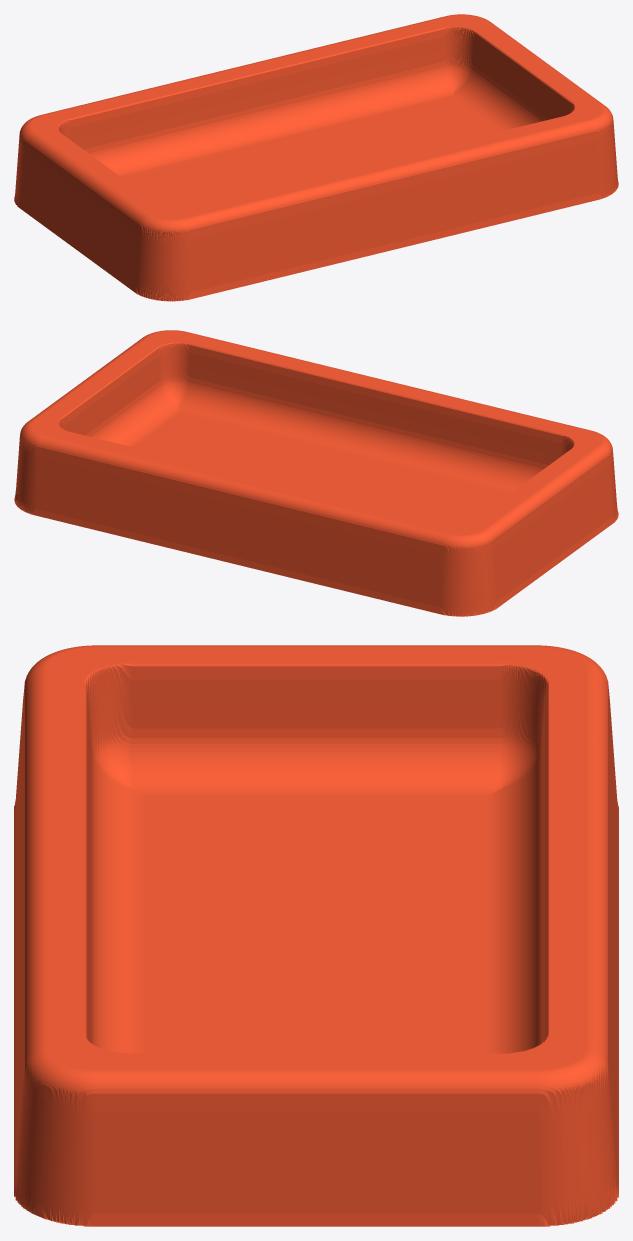
File: mold.glb
3 renders of one model, top to bottom at view 1: azimuth 30°, elevation 25°; view 2: azimuth 150°, elevation 25°; view 3: azimuth 270°, elevation 25°, orthographic. The views are drawn at different scales.
Visible parts, largest first — view 1: geometry_0; view 2: geometry_0; view 3: geometry_0.
Part boxes in pixels (left/top/right/bottom): geometry_0: left=14, top=14, right=618, bottom=301; geometry_0: left=14, top=330, right=618, bottom=616; geometry_0: left=14, top=645, right=618, bottom=1226.
Size of the model in its own units: 0.1178 by 0.0175 by 0.067.
